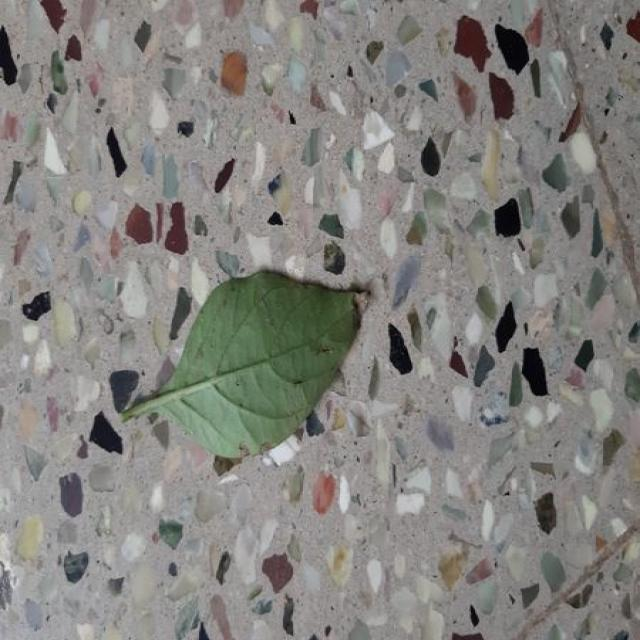chilly: (122, 271, 358, 459)
